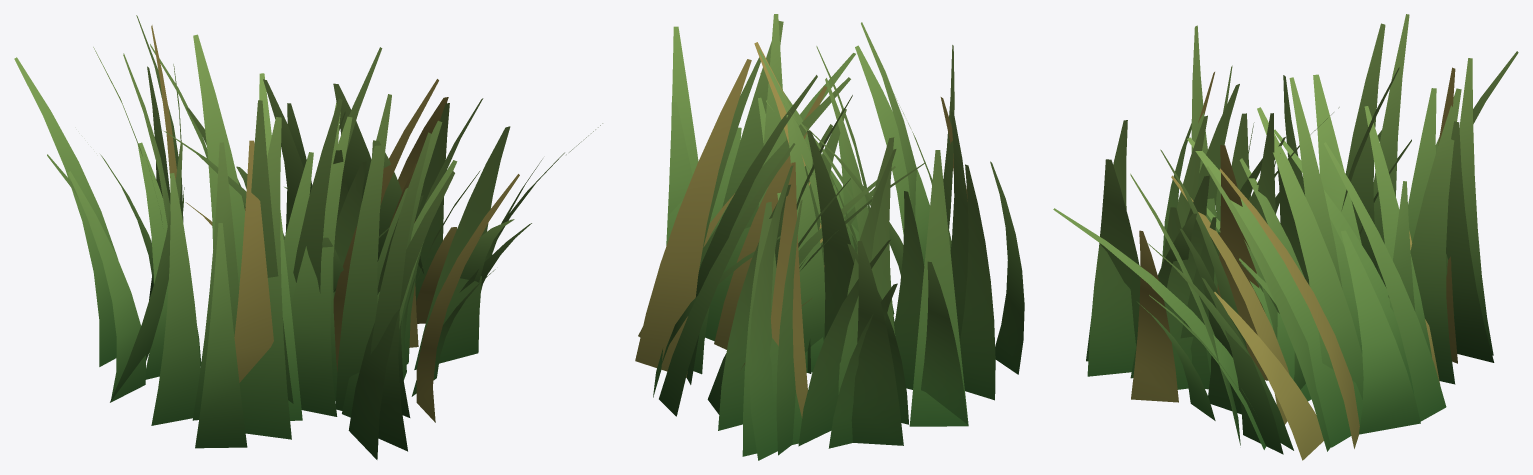
Rendered from maleza_hierba.glb.
The picture shows the model from 3 angles, left to right: view 1: azimuth 30°, elevation 25°; view 2: azimuth 150°, elevation 25°; view 3: azimuth 270°, elevation 25°; orthographic projection. The views are drawn at different scales.
Parts seen in each view (by area): view 1: maleza_hierba_malla; view 2: maleza_hierba_malla; view 3: maleza_hierba_malla.
Boxes of the visible parts, x1,y1,x2,y2 form: maleza_hierba_malla: [14, 15, 602, 459]; maleza_hierba_malla: [635, 14, 1024, 460]; maleza_hierba_malla: [1053, 14, 1518, 460].
Size of the model in its own units: 0.5926 by 0.4651 by 0.63.
